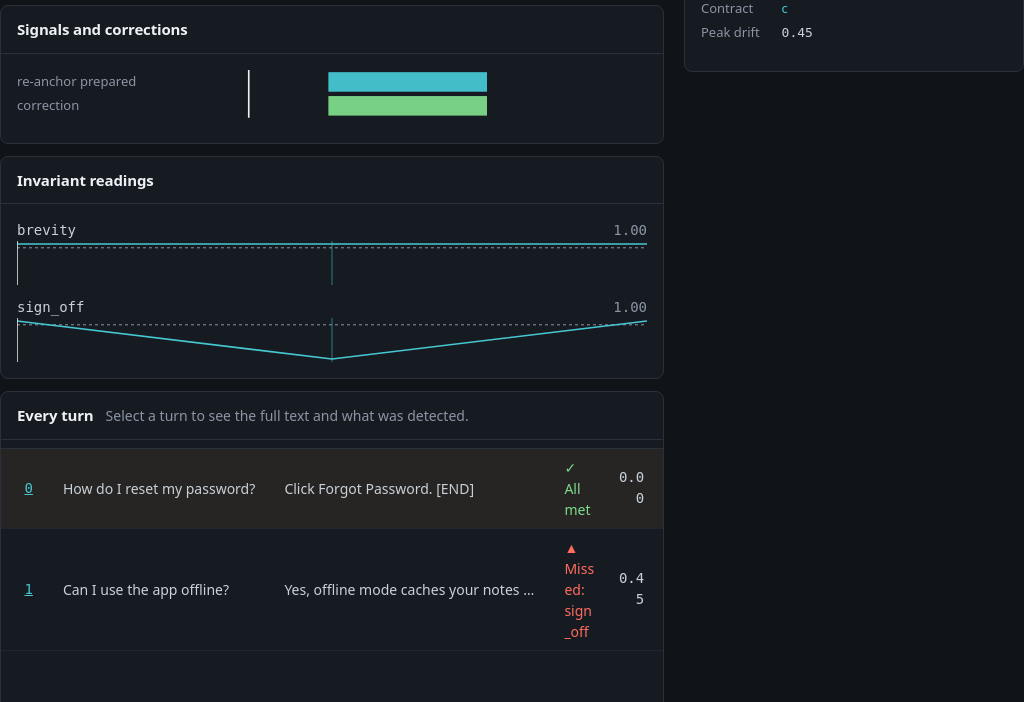
Test: every turn › picking a turn moves the replay to it
(page scrolled)
Click the button named "Go to turn 1": (29, 590) x1=18 y1=577 x2=39 y2=602
(page scrolled)
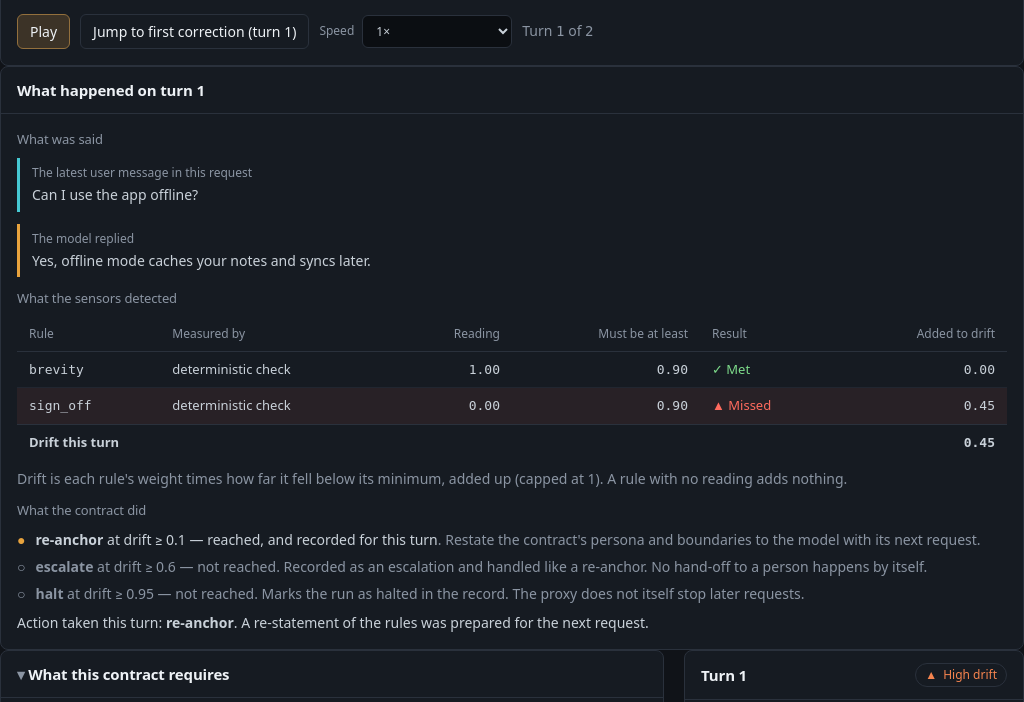
Now the element named "Details of turn 1" is shown
